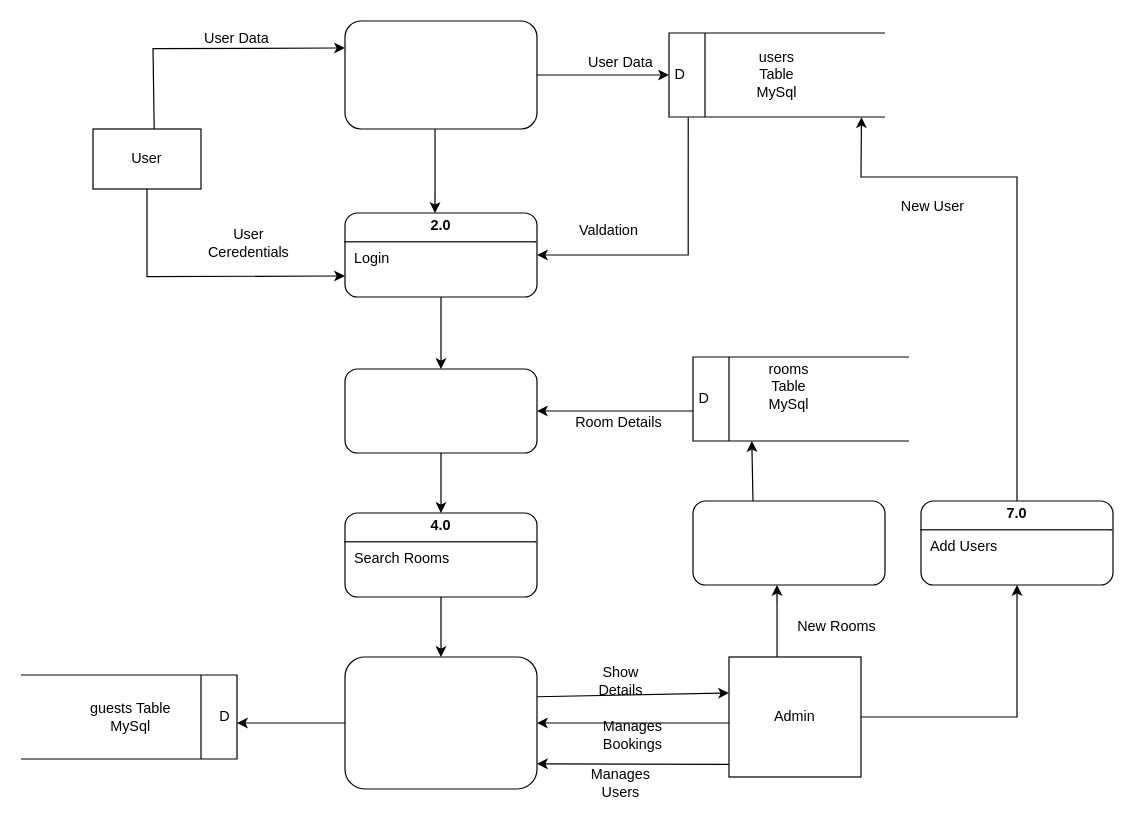
Image size: 1134x822. Some labels were removed from this diagram. The box of each missing label's shape, as (x1, y1, x2, y2) in pixels:
1.0 Register:Form: (344, 20, 537, 129)
3.0 View Rooms: (344, 368, 537, 453)
5.0 Book Rooms: (344, 656, 537, 789)
6.0 Add Rooms: (692, 500, 885, 585)
